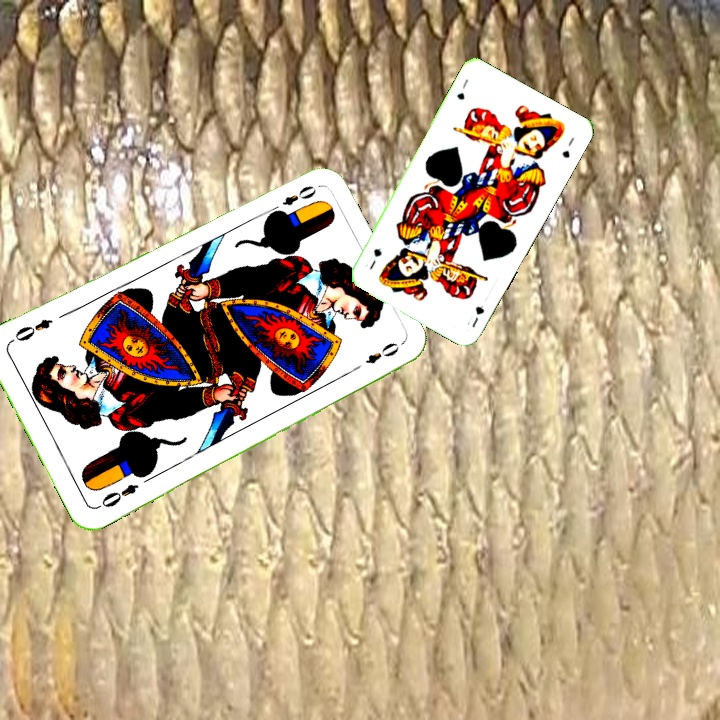EO: (93, 479, 141, 511), (278, 181, 319, 209)
GU: (463, 301, 487, 330), (452, 75, 471, 103)
